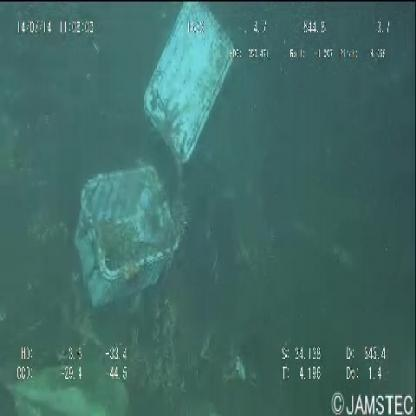Rác: (71, 5, 243, 331)
